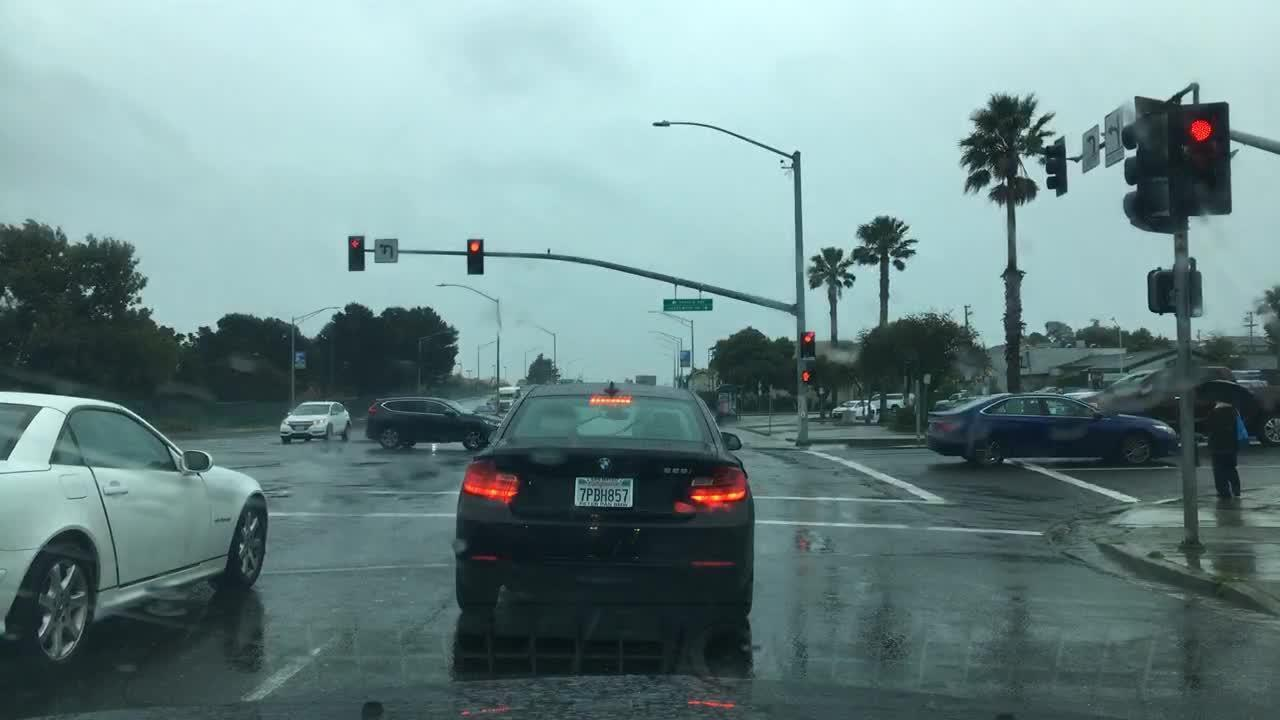bmw: (589, 448, 622, 479)
